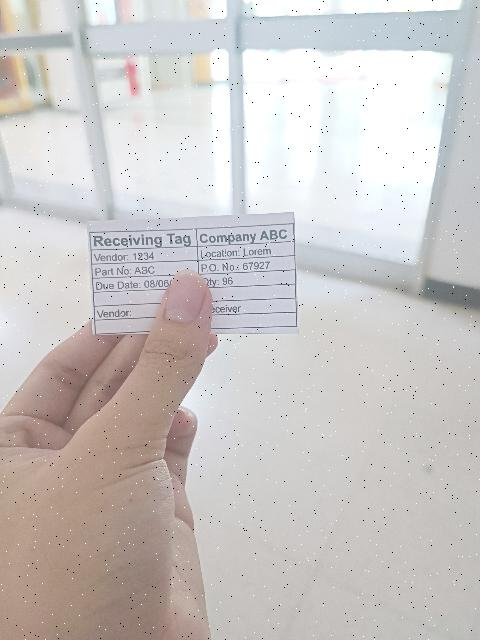PO no: (199, 256, 294, 275)
part no: (92, 261, 199, 278)
qty: (200, 270, 296, 288)
tags: (88, 213, 298, 335)
